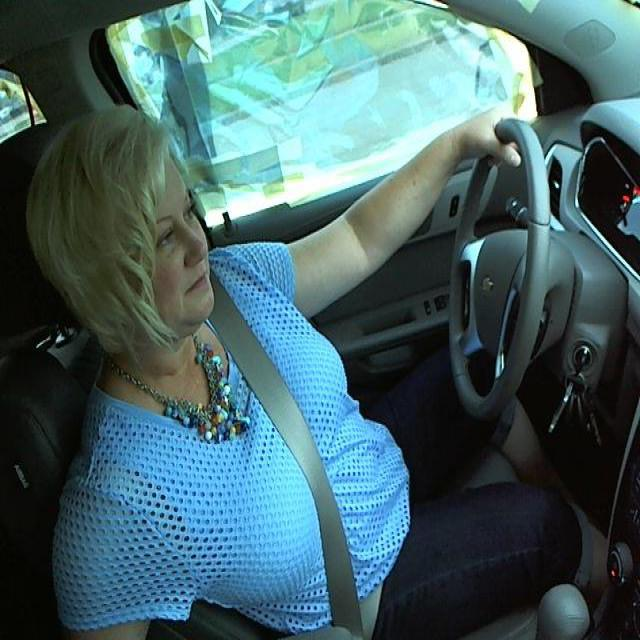seatbelt: (205, 322, 393, 618)
